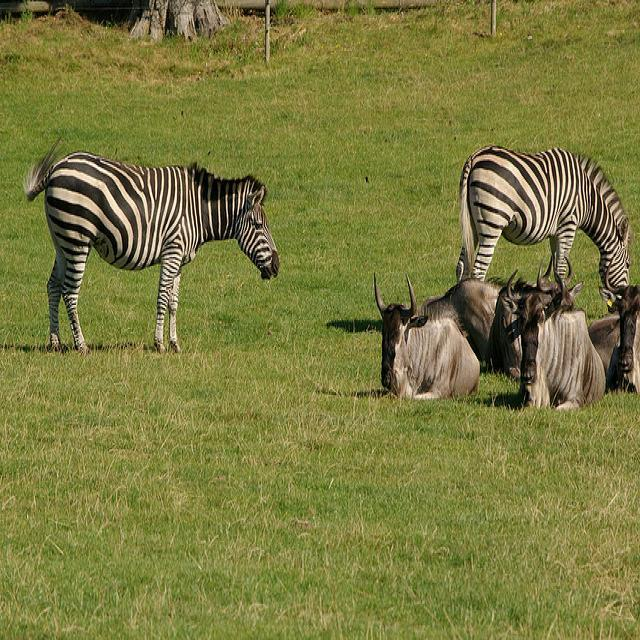cow: (419, 255, 551, 377), (372, 268, 477, 398)
